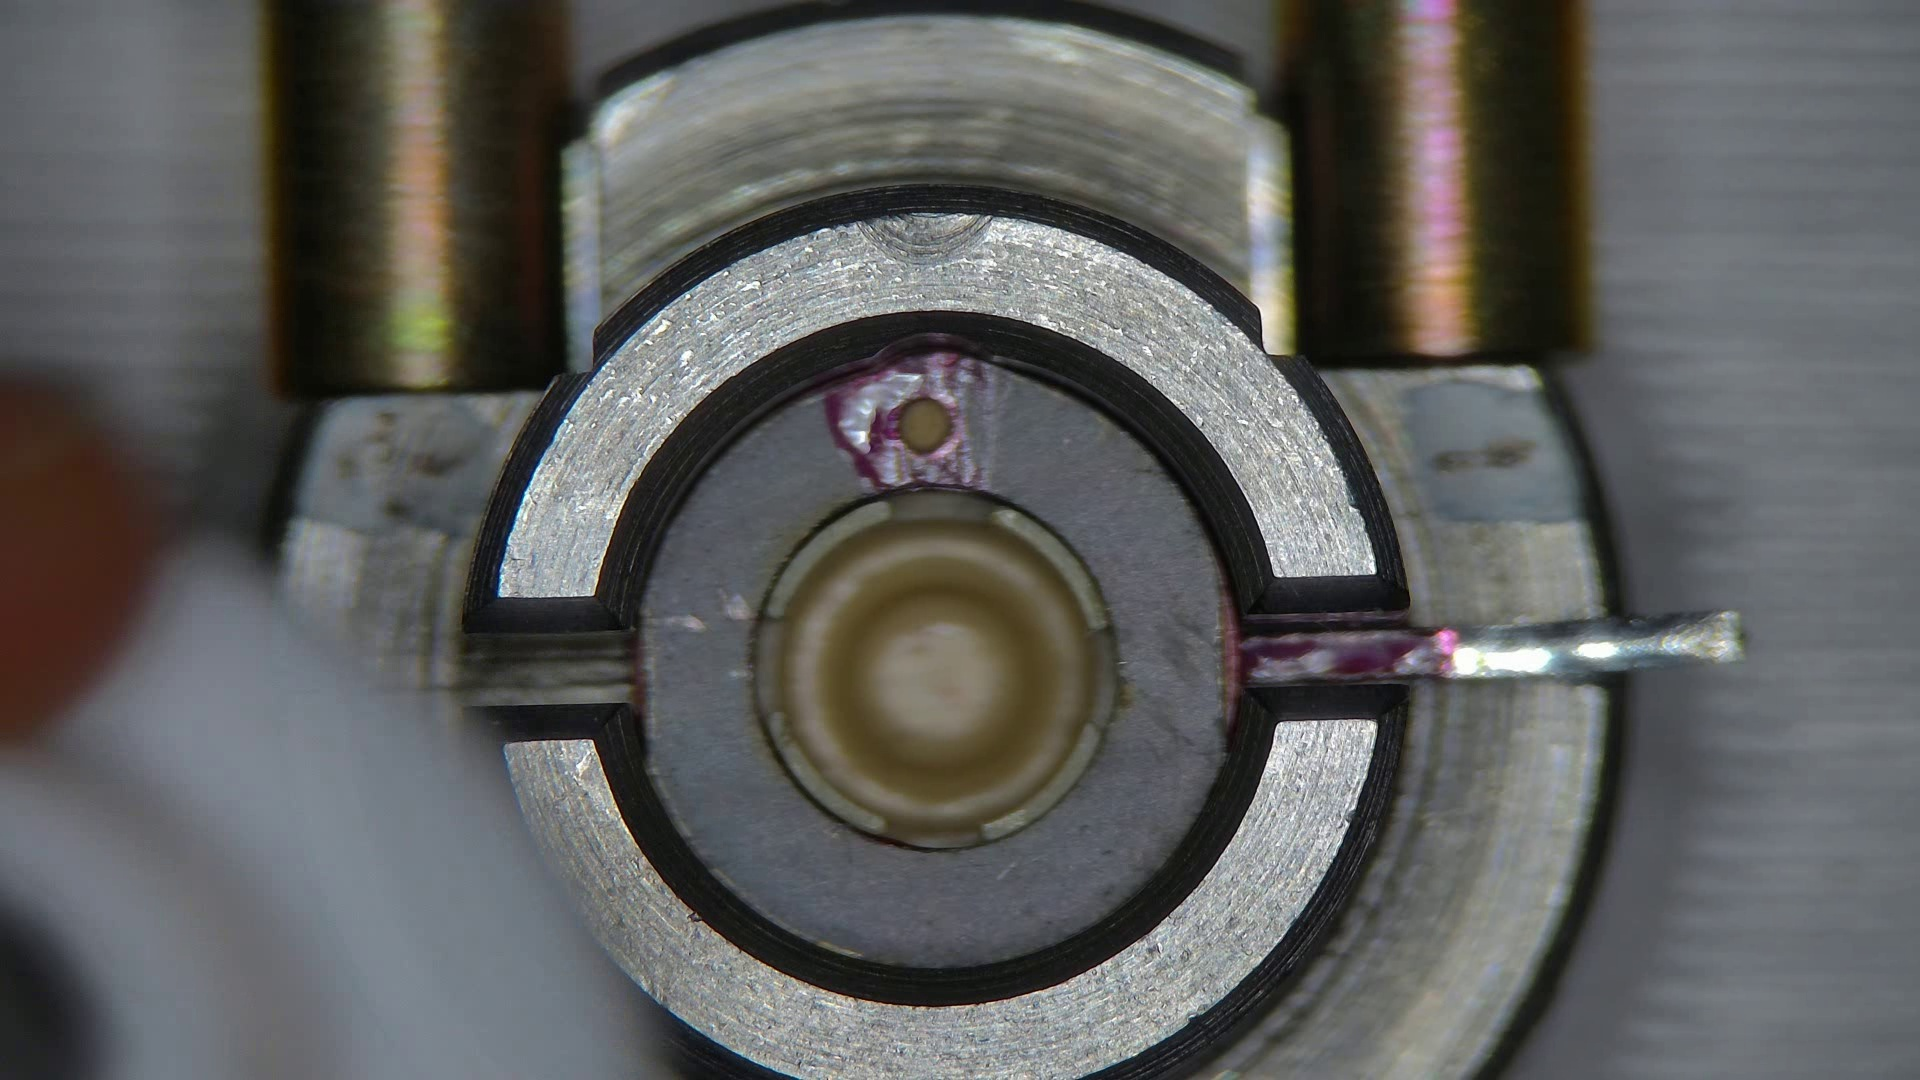YellowOring: (640, 353, 1226, 971)
